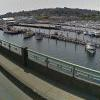Boat: (82, 37, 96, 58)
